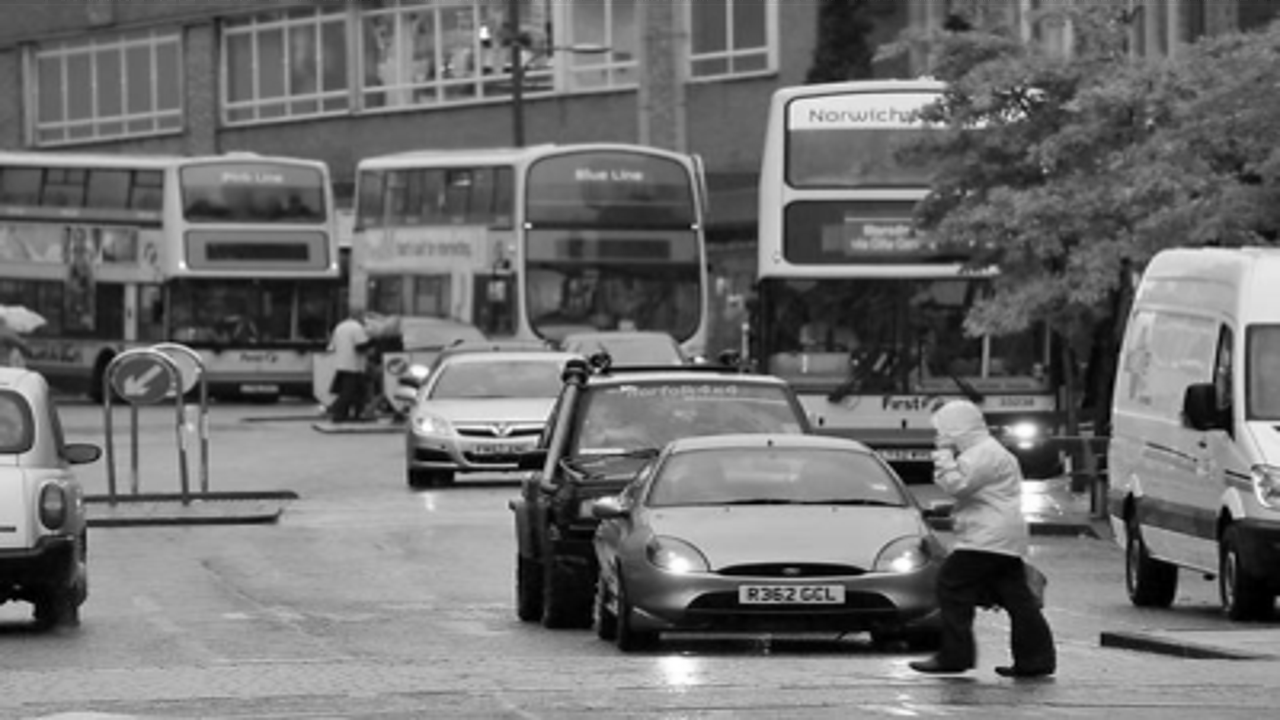license: (732, 582, 847, 607), (468, 437, 535, 461)
